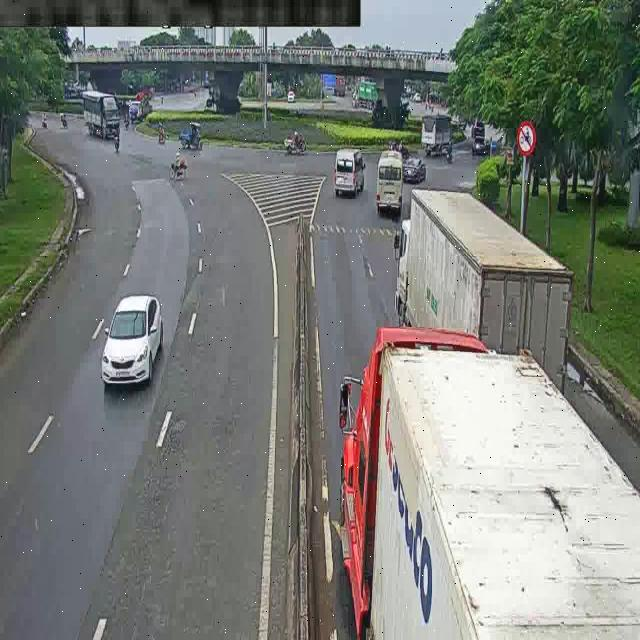car: (99, 271, 159, 388), (328, 137, 368, 208), (374, 149, 412, 220), (405, 155, 430, 186)
motorbike: (176, 121, 209, 154), (31, 111, 61, 134), (280, 128, 306, 152), (163, 157, 188, 175), (153, 117, 173, 139), (59, 115, 73, 128)
truck: (280, 314, 640, 640), (386, 189, 580, 385), (84, 87, 123, 141), (353, 74, 392, 119), (421, 117, 454, 153)
